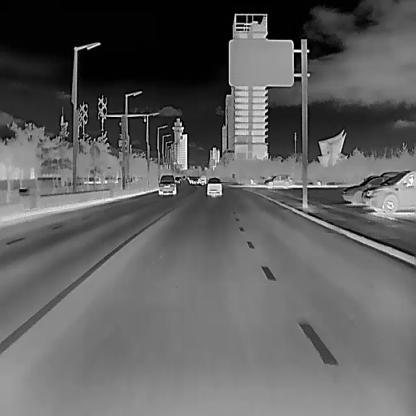car: (360, 169, 416, 214), (342, 173, 388, 202), (262, 173, 292, 188), (158, 175, 176, 194), (205, 177, 222, 196)
